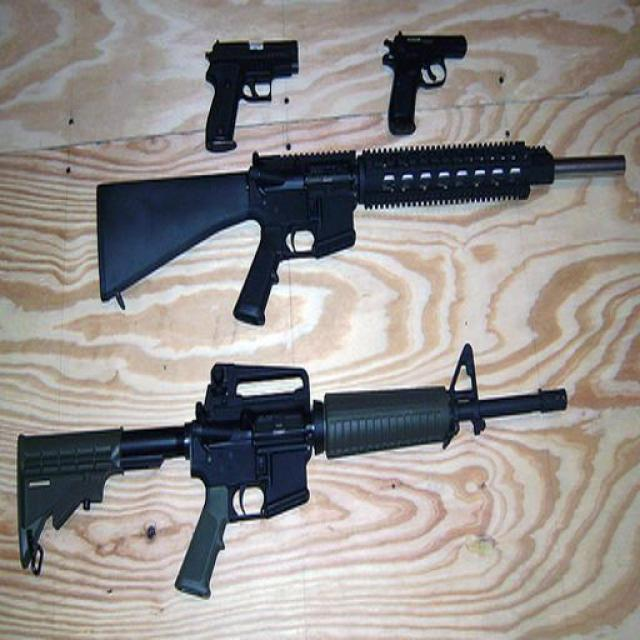pistol: (199, 37, 304, 150), (385, 26, 469, 138)
